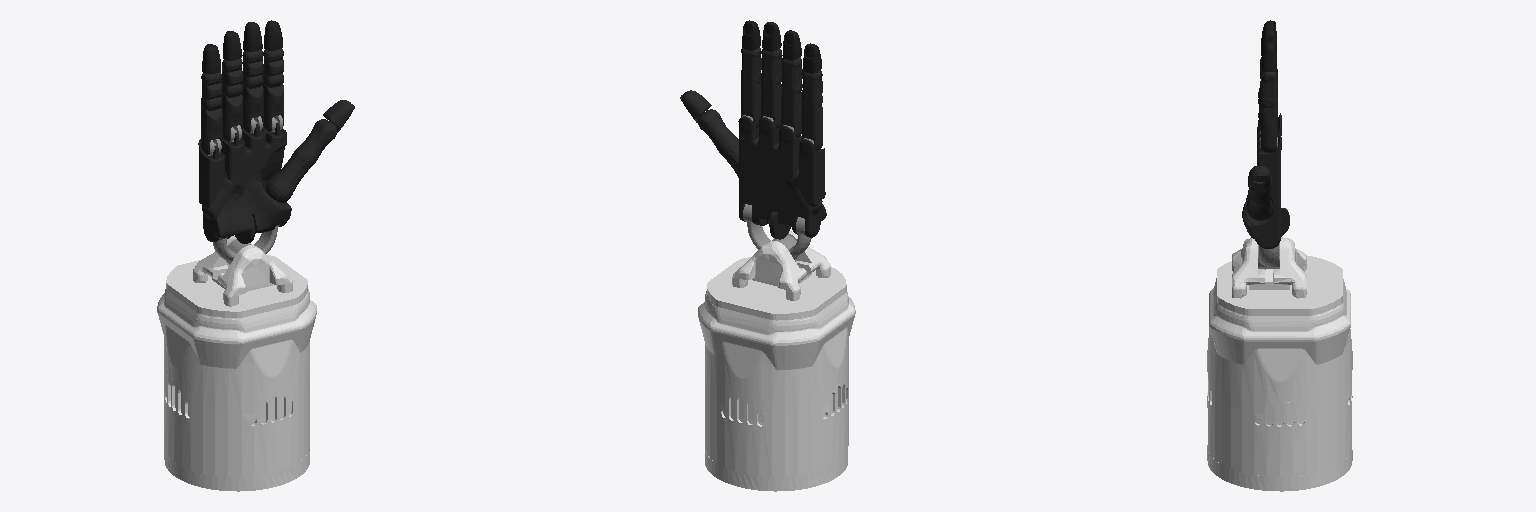
--- What the picture shows (computed from the rendered views, not written in the file) ---
The picture shows the robot from 3 angles, left to right: view 1: azimuth 30°, elevation 25°; view 2: azimuth 150°, elevation 25°; view 3: azimuth 270°, elevation 25°; orthographic projection.
Model shadowhand_motor with 33 links and 32 joints (24 revolute, 8 fixed), rooted at world, posed all joints at 0.
Visible links, largest first — view 1: rh_forearm, rh_palm, rh_lfmetacarpal, rh_thproximal, rh_thmiddle, rh_wrist, rh_lfproximal, rh_mfproximal, rh_rfproximal, rh_rfmiddle, rh_ffproximal, rh_lfmiddle (+3 smaller); view 2: rh_forearm, rh_palm, rh_lfmetacarpal, rh_wrist, rh_thmiddle, rh_lfproximal, rh_rfproximal, rh_mfproximal, rh_ffproximal, rh_rfmiddle, rh_lfmiddle, rh_mfmiddle (+2 smaller); view 3: rh_forearm, rh_palm, rh_ffproximal, rh_ffmiddle.
Boxes of the visible links, x1,y1,x2,y2 form: rh_forearm: (157,236,316,491); rh_palm: (202,123,291,243); rh_lfmetacarpal: (198,139,239,207); rh_thproximal: (266,152,310,202); rh_thmiddle: (294,119,336,166); rh_wrist: (213,225,279,264); rh_lfproximal: (201,105,222,155); rh_mfproximal: (242,82,263,132); rh_rfproximal: (221,93,242,141); rh_rfmiddle: (222,59,242,97); rh_ffproximal: (263,83,283,131); rh_lfmiddle: (201,72,221,110); rh_forearm: (698,231,855,491); rh_palm: (738,116,826,239); rh_lfmetacarpal: (785,139,825,206); rh_wrist: (743,204,811,259); rh_thmiddle: (698,109,738,156); rh_lfproximal: (802,100,822,150); rh_rfproximal: (781,87,801,137); rh_mfproximal: (761,79,781,129); rh_ffproximal: (741,77,760,127); rh_rfmiddle: (781,57,802,93); rh_lfmiddle: (802,70,822,106); rh_mfmiddle: (761,48,781,84); rh_forearm: (1207,237,1352,491); rh_palm: (1242,115,1289,248); rh_ffproximal: (1258,101,1277,152); rh_ffmiddle: (1260,71,1277,107).
Bounding box of the posed robot: 0.1809 × 0.1351 × 0.4479 m (x, y, z).
Meshes: 11 distinct files referenced, 23 mesh visuals loaded (11 Collada DAE).

robot.urdf — shadowhand_motor:
<?xml version="1.0" ?>

<robot name="shadowhand_motor"
   xmlns:controller="http://playerstage.sourceforge.net/gazebo/xmlschema/#controller"
   xmlns:interface="http://playerstage.sourceforge.net/gazebo/xmlschema/#interface"
   xmlns:sensor="http://playerstage.sourceforge.net/gazebo/xmlschema/#sensor">

   <material name="Blue">
      <color rgba="0.0 0.0 0.8 1.0"/>
   </material>

   <material name="Green">
      <color rgba="0.0 0.8 0.0 1.0"/>
   </material>

   <material name="BiotacGreen">
      <color rgba="0.31 0.85 0.42 1.0"/>
   </material>

   <material name="Grey">
      <color rgba="0.2 0.2 0.2 1.0"/>
   </material>

   <material name="LightGrey">
      <color rgba="0.6 0.6 0.6 1.0"/>
   </material>

   <material name="Red">
      <color rgba="0.8 0.0 0.0 1.0"/>
   </material>

   <material name="White">
      <color rgba="1.0 1.0 1.0 1.0"/>
   </material>

   <gazebo>
      <plugin filename="libgazebo_ros_control.so" name="gazebo_ros_control">
         <robotSimType>sr_gazebo_sim/SrGazeboHWSim</robotSimType>
      </plugin>
   </gazebo>

   <link name="world"/>

   <joint name="rh_world_joint" type="fixed">
      <parent link="world"/>
      <child link="rh_forearm"/>
      <origin rpy="0.0 0.0 0.0" xyz="0.0 0.0 0.0"/>
   </joint>

   <link name="rh_forearm">
      <inertial>
         <origin rpy="0 0 0" xyz="0 0 0.09"/>
         <mass value="3.0"/>
         <inertia ixx="0.0138" ixy="0.0" ixz="0.0" iyy="0.0138" iyz="0.0" izz="0.00744"/>
      </inertial>
      <visual>
         <origin rpy="0 0 0" xyz="0 0 0.0"/>
         <geometry name="rh_forearm_visual">
            <mesh filename="package://sr_description/meshes/components/forearm/forearm_E3M5_scaled.dae" />
         </geometry>
         <material name="light_grey">
            <color rgba="0.90000 0.90000 0.90000 1.0"/>
         </material>
      </visual>
      <collision>
         <origin rpy="0 0 0" xyz="0 0 0.0"/>
         <geometry name="rh_forearm_collision">
            <mesh filename="package://sr_description/meshes/components/forearm/forearm_collision_E3M5_scaled.dae" />
         </geometry>
      </collision>      <!-- wrist mount -->
      <collision>
         <origin rpy="0 0.78 0" xyz="0 -0.01 0.181"/>
         <geometry>
            <box size="0.07 0.07 0.07"/>
         </geometry>
      </collision>
      <!-- TODO: Make a decision on whether to add the connector or not -->
      <!--visual>
        <origin rpy="0 -1.57 -1.57" xyz="0.0 0.067 0.0045"/>
        <geometry name="${prefix}cable_extr_visualisation">
          <mesh filename="package://sr_description/meshes/components/cable_connector/cable_connector_base_${hand_version}.dae" scale="0.001 0.001 0.001" />
        </geometry>
      </visual-->
   </link>

   <gazebo reference="rh_forearm">
      <selfCollide>false</selfCollide>
   </gazebo>

   <link name="rh_wrist">
      <inertial>
         <origin rpy="0 0 0" xyz="0 0 0.029"/>
         <mass value="0.1"/>
         <inertia ixx="0.000035" ixy="0.0" ixz="0.0" iyy="0.000064" iyz="0.0" izz="0.0000438"/>
      </inertial>
      <visual>
         <origin rpy="0 0 0" xyz="0 0 0"/>
         <geometry name="rh_wrist_visual">
            <mesh filename="package://sr_description/meshes/components/wrist/wrist_E3M5_no_rot_scaled.dae"/>
         </geometry>
         <material name="LightGrey"/>
      </visual>
      <collision>
         <origin rpy="1.5708 1.5708 0" xyz="0 0 0"/>
         <geometry name="rh_wrist_collision_geom">
            <cylinder length="0.030" radius="0.0135"/>
         </geometry>
      </collision>
      <collision>
         <origin rpy="0 1.5708 0" xyz="-0.026 0 0.034"/>
         <geometry>
            <cylinder length="0.010" radius="0.011"/>
         </geometry>
      </collision>
      <collision>
         <origin rpy="0 1.5708 0" xyz="0.031 0 0.034"/>
         <geometry>
            <cylinder length="0.010" radius="0.011"/>
         </geometry>
      </collision>
      <collision>
         <origin rpy="0 0.7854 0" xyz="-0.021 0 0.011"/>
         <geometry>
            <box size="0.027 0.018 0.010"/>
         </geometry>
      </collision>
      <collision>
         <origin rpy="0 -0.7854 0" xyz="0.026 0 0.010"/>
         <geometry>
            <box size="0.027 0.018 0.010"/>
         </geometry>
      </collision>
   </link>

   <gazebo reference="rh_wrist">
      <material>Gazebo/White</material>
      <selfCollide>false</selfCollide>
   </gazebo>

   <joint name="rh_WRJ2" type="revolute">
      <parent link="rh_forearm"/>
      <child link="rh_wrist"/>
      <origin rpy="0 0 0" xyz="0 -0.010 0.21301"/>
      <axis xyz="0 1 0"/>
      <limit effort="10" lower="-0.5235987755982988" upper="0.17453292519943295" velocity="2.0"/>
      <dynamics damping="0.1"/>
   </joint>

   <gazebo reference="rh_WRJ2">
      <provideFeedback>1</provideFeedback>
      <implicitSpringDamper>1</implicitSpringDamper>
   </gazebo>

   <transmission name="rh_wrist_transmission">
      <type>sr_mechanism_model/SimpleTransmission</type>
      <actuator name="rh_WRJ2">
         <mechanicalReduction>1</mechanicalReduction>
      </actuator>
      <joint name="rh_WRJ2">
         <hardwareInterface>EffortJointInterface</hardwareInterface>
         <hardwareInterface>PositionJointInterface</hardwareInterface>
      </joint>
   </transmission>

   <link name="rh_palm">
      <inertial>
         <origin rpy="0 0 0" xyz="0 0 0.035"/>
         <mass value="0.3"/>
         <inertia ixx="0.0003581" ixy="0.0" ixz="0.0" iyy="0.0005287" iyz="0.0" izz="0.000191"/>
      </inertial>
      <visual>
         <origin rpy="0 0 0" xyz="0 0 0"/>
         <geometry name="rh_palm_visual">
            <mesh filename="package://sr_description/meshes/components/palm/palm_E3M5_scaled.dae" />
         </geometry>
         <material name="Grey"/>
      </visual>
      <collision>
         <origin rpy="0 0 0" xyz="0.011 0.0085 0.038"/>
         <geometry name="rh_palm_collision_geom">
            <box size="0.062 0.007 0.098"/>
         </geometry>
      </collision>
      <collision>
         <origin rpy="0 0 0" xyz="-0.002 -0.0035 0.038"/>
         <geometry>
            <box size="0.036 0.017 0.098"/>
         </geometry>
      </collision>      <!-- palm complement below first finger -->
      <collision>
         <origin rpy="0 0 0" xyz="0.029 -0.0035 0.082"/>
         <geometry>
            <box size="0.026 0.017 0.010"/>
         </geometry>
      </collision>
      <collision>
         <origin rpy="0.2 0 0.25" xyz="0.0265 -0.001 0.070"/>
         <geometry>
            <box size="0.026 0.014 0.018"/>
         </geometry>
      </collision>      <!-- thumb pulp side -->
      <collision>
         <origin rpy="0 0 0" xyz="0.0315 -0.0085 0.001"/>
         <geometry>
            <box size="0.021 0.027 0.024"/>
         </geometry>
      </collision>      <!-- thumb pulp central -->
      <collision>
         <origin rpy="0 0 -0.48" xyz="0.0125 -0.015 0.009"/>
         <geometry>
            <box size="0.022 0.005 0.040"/>
         </geometry>
      </collision>      <!-- above middle finger-->
      <collision>
         <origin rpy="0 0 0" xyz="0.011 0 0.089"/>
         <geometry>
            <box size="0.018 0.024 0.004"/>
         </geometry>
      </collision>      <!-- metacarpal side-->
      <collision>
         <origin rpy="0 0 0" xyz="-0.03 0 0.009"/>
         <geometry>
            <box size="0.020 0.024 0.040"/>
         </geometry>
      </collision>
   </link>

   <joint name="rh_ee_fixed_joint" type="fixed">
      <parent link="rh_palm"/>
      <child link="rh_manipulator"/>
      <origin rpy="0.0 0.0 0.0" xyz="0.0 0.0 0.05"/>
   </joint>

   <link name="rh_manipulator"/>

   <joint name="rh_WRJ1" type="revolute">
      <parent link="rh_wrist"/>
      <child link="rh_palm"/>
      <origin rpy="0 0 0" xyz="0 0 0.034"/>
      <axis xyz="1 0 0"/>
      <limit effort="30" lower="-0.6981317007977318" upper="0.4886921905584123" velocity="2.0"/>
      <dynamics damping="0.1"/>
   </joint>

   <gazebo reference="rh_WRJ1">
      <provideFeedback>1</provideFeedback>
      <implicitSpringDamper>1</implicitSpringDamper>
   </gazebo>

   <link name="rh_imu"/>

   <joint name="rh_palm_to_imu" type="fixed">
      <parent link="rh_palm"/>
      <child link="rh_imu"/>
      <origin rpy="-1.5707963 3.141592 0.0" xyz="0.01785 0.00765 0.049125"/>
   </joint>

   <transmission name="rh_palm_transmission">
      <type>sr_mechanism_model/SimpleTransmission</type>
      <actuator name="rh_WRJ1">
         <mechanicalReduction>1</mechanicalReduction>
      </actuator>
      <joint name="rh_WRJ1">
         <hardwareInterface>EffortJointInterface</hardwareInterface>
         <hardwareInterface>PositionJointInterface</hardwareInterface>
      </joint>
   </transmission>

   <gazebo reference="rh_palm"></gazebo>

   <link name="rh_ffknuckle">
      <inertial>
         <origin rpy="0 0 0" xyz="0 0 0"/>
         <mass value="0.008"/>
         <inertia ixx="0.00000026" ixy="0.0" ixz="0.0" iyy="0.00000026" iyz="0.0" izz="0.00000032"/>
      </inertial>
      <visual>
         <origin rpy="0 0 0" xyz="0 0 0.0005"/>
         <geometry name="rh_ffknuckle_visual">
            <mesh filename="package://sr_description/meshes/components/f_knuckle/f_knuckle_E3M5_no_rot_scaled.dae" />
         </geometry>
         <material name="LightGrey"/>
      </visual>
      <collision>
         <origin rpy="0 1.5708 0" xyz="0 0 0"/>
         <geometry name="rh_ffknuckle_collision_geom">
            <cylinder length="0.014" radius="0.007"/>
         </geometry>
      </collision>
   </link>

   <joint name="rh_FFJ4" type="revolute">
      <parent link="rh_palm"/>
      <child link="rh_ffknuckle"/>
      <!--<origin xyz="0.033 0 0.095" rpy="0 0 0" />-->
      <origin rpy="0 0 0" xyz="0.033 0 0.095"/>
      <axis xyz="0 -1 0"/>
      <limit effort="2" lower="-0.3490658503988659" upper="0.3490658503988659" velocity="2.0"/>
      <dynamics damping="0.1"/>
   </joint>

   <gazebo reference="rh_FFJ4">
      <provideFeedback>1</provideFeedback>
      <implicitSpringDamper>1</implicitSpringDamper>
   </gazebo>

   <transmission name="rh_ffknuckle_transmission">
      <type>sr_mechanism_model/SimpleTransmission</type>
      <actuator name="rh_FFJ4">
         <mechanicalReduction>1</mechanicalReduction>
      </actuator>
      <joint name="rh_FFJ4">
         <hardwareInterface>EffortJointInterface</hardwareInterface>
         <hardwareInterface>PositionJointInterface</hardwareInterface>
      </joint>
   </transmission>

   <gazebo reference="rh_ffknuckle">      <!-- knuckle is not highly exposed, so bumper is not useful -->
      <material>Gazebo/Grey</material>
   </gazebo>

   <link name="rh_ffproximal">
      <inertial>
         <mass value="0.030"/>
         <origin xyz="0 0 0.0225"/>
         <inertia ixx="0.0000098" ixy="0.0" ixz="0.0" iyy="0.00001" iyz="0.0" izz="0.0000018"/>
      </inertial>
      <visual>
         <origin rpy="0 0 0" xyz="0 0 0"/>
         <geometry name="rh_ffproximal_visual">
            <mesh filename="package://sr_description/meshes/components/f_proximal/f_proximal_E3M5_no_rot_scaled.dae" />
         </geometry>
         <material name="Grey"/>
      </visual>
      <collision>
         <origin rpy="0 0 0" xyz="0 0 0.025"/>
         <geometry name="rh_ffproximal_collision_geom">
            <cylinder length="0.040" radius="0.007"/>
         </geometry>
      </collision>
   </link>

   <joint name="rh_FFJ3" type="revolute">
      <parent link="rh_ffknuckle"/>
      <child link="rh_ffproximal"/>
      <origin rpy="0 0 0" xyz="0 0 0"/>
      <axis xyz="1 0 0"/>
      <limit effort="2" lower="-0.2617993877991494" upper="1.5707963267948966" velocity="2.0"/>
      <dynamics damping="0.1"/>
   </joint>

   <gazebo reference="rh_FFJ3">
      <provideFeedback>1</provideFeedback>
      <implicitSpringDamper>1</implicitSpringDamper>
   </gazebo>

   <transmission name="rh_ffproximal_transmission">
      <type>sr_mechanism_model/SimpleTransmission</type>
      <actuator name="rh_FFJ3">
         <mechanicalReduction>1</mechanicalReduction>
      </actuator>
      <joint name="rh_FFJ3">
         <hardwareInterface>EffortJointInterface</hardwareInterface>
         <hardwareInterface>PositionJointInterface</hardwareInterface>
      </joint>
   </transmission>

   <gazebo reference="rh_ffproximal">
      <selfCollide>true</selfCollide>
   </gazebo>

   <link name="rh_ffmiddle">
      <inertial>
         <origin rpy="0 0 0" xyz="0 0 0.0125"/>
         <mass value="0.017"/>
         <inertia ixx="0.0000026" ixy="0.0" ixz="0.0" iyy="0.0000027" iyz="0.0" izz="0.00000087"/>
      </inertial>
      <visual>
         <origin rpy="0 0 0" xyz="0 0 0"/>
         <geometry name="rh_ffmiddle_visual">
            <mesh filename="package://sr_description/meshes/components/f_middle/f_middle_E3M5_no_rot_scaled.dae" />
         </geometry>
         <material name="Grey"/>
      </visual>
      <collision>
         <origin rpy="0 0 0" xyz="0 0 0.0125"/>
         <geometry name="rh_ffmiddle_collision_geom">
            <cylinder length="0.025" radius="0.007"/>
         </geometry>
      </collision>
      <collision>
         <origin rpy="0 0 0" xyz="0 0 0.0"/>
         <geometry>
            <sphere radius="0.007"/>
         </geometry>
      </collision>
      <collision>
         <origin rpy="0 0 0" xyz="0 0 0.025"/>
         <geometry>
            <sphere radius="0.007"/>
         </geometry>
      </collision>
   </link>

   <joint name="rh_FFJ2" type="revolute">
      <parent link="rh_ffproximal"/>
      <child link="rh_ffmiddle"/>
      <origin rpy="0 0 0" xyz="0 0 0.045"/>
      <axis xyz="1 0 0"/>
      <limit effort="2" lower="0" upper="1.5707963267948966" velocity="2.0"/>
      <dynamics damping="0.1"/>
   </joint>

   <gazebo reference="rh_FFJ2">
      <provideFeedback>1</provideFeedback>
      <implicitSpringDamper>1</implicitSpringDamper>
   </gazebo>

   <transmission name="rh_ffmiddle_transmission">
      <type>sr_mechanism_model/J0Transmission</type>
      <actuator name="rh_FFJ0">
         <mechanicalReduction>1</mechanicalReduction>
      </actuator>
      <joint name="rh_FFJ1">
         <hardwareInterface>EffortJointInterface</hardwareInterface>
         <hardwareInterface>PositionJointInterface</hardwareInterface>
      </joint>
   </transmission>

   <gazebo reference="rh_ffmiddle">
      <selfCollide>true</selfCollide>
   </gazebo>

   <link name="rh_ffdistal">
      <inertial>
         <mass value="0.012"/>
         <origin xyz="0 0 0.012"/>
         <inertia ixx="0.00000094" ixy="0.0" ixz="0.0" iyy="0.0000011" iyz="0.0" izz="0.00000053"/>
      </inertial>
      <visual>
         <origin rpy="0 0 0" xyz="0 0 0"/>
         <geometry name="rh_ffdistal_visual">
            <mesh filename="package://sr_description/meshes/components/f_distal/pst/f_distal_pst_scaled.dae" />
         </geometry>
      </visual>
      <collision>
         <origin rpy="0 0 0" xyz="0 0 0"/>
         <geometry name="rh_ffdistal_collision_geom">
            <mesh filename="package://sr_description/meshes/components/f_distal/pst/f_distal_pst_scaled.dae" />
         </geometry>
      </collision>
   </link>

   <joint name="rh_FFJ1" type="revolute">
      <parent link="rh_ffmiddle"/>
      <child link="rh_ffdistal"/>
      <origin rpy="0 0 0" xyz="0 0 0.025"/>
      <axis xyz="1 0 0"/>
      <!-- standard distal joint -->
      <limit effort="2" lower="0" upper="1.5707963267948966" velocity="2.0"/>
      <dynamics damping="0.1"/>
   </joint>

   <gazebo reference="rh_FFJ1">
      <provideFeedback>1</provideFeedback>
      <implicitSpringDamper>1</implicitSpringDamper>
   </gazebo>

   <link name="rh_fftip">
      <inertial>
         <origin xyz="0 0 0" rpy="0 0 0"/>
         <!--Explicitly setting the origin to avoid compilation errors-->
         <mass value="0.001"/>
         <inertia ixx="0.0" ixy="0.0" ixz="0.0" iyy="0.0" iyz="0.0" izz="0.0"/>
      </inertial>
   </link>

   <joint name="rh_FFtip" type="fixed">
      <parent link="rh_ffdistal"/>
      <child link="rh_fftip"/>
      <origin rpy="0 0 0" xyz="0 0 0.026"/>
   </joint>

   <gazebo reference="rh_ffdistal">
      <sensor name="rh_ffdistal_contact" type="contact">
         <always_on>1</always_on>
         <update_rate>1000.0</update_rate>
         <contact>
            <collision>rh_ffdistal_collision</collision>
            <topic>rh_ffdistal_collision</topic>
         </contact>
         <plugin filename="libgazebo_ros_bumper.so" name="rh_ffdistal_gazebo_ros_bumper_controller">
            <alwaysOn>true</alwaysOn>
            <frameName>rh_ffdistal</frameName>
            <updateRate>100.0</updateRate>
            <bumperTopicName>contacts/rh_ff/distal</bumperTopicName>
         </plugin>
      </sensor>
      <mu1 value="500.0"/>
      <mu2 value="500.0"/>
      <kp value="10000000.0"/>
      <kd value="1.0"/>
      <selfCollide>true</selfCollide>
   </gazebo>

   <link name="rh_mfknuckle">
      <inertial>
         <origin rpy="0 0 0" xyz="0 0 0"/>
         <mass value="0.008"/>
         <inertia ixx="0.00000026" ixy="0.0" ixz="0.0" iyy="0.00000026" iyz="0.0" izz="0.00000032"/>
      </inertial>
      <visual>
         <origin rpy="0 0 0" xyz="0 0 0.0005"/>
         <geometry name="rh_mfknuckle_visual">
            <mesh filename="package://sr_description/meshes/components/f_knuckle/f_knuckle_E3M5_no_rot_scaled.dae" />
         </geometry>
         <material name="LightGrey"/>
      </visual>
      <collision>
         <origin rpy="0 1.5708 0" xyz="0 0 0"/>
         <geometry name="rh_mfknuckle_collision_geom">
            <cylinder length="0.014" radius="0.007"/>
         </geometry>
      </collision>
   </link>

   <joint name="rh_MFJ4" type="revolute">
      <parent link="rh_palm"/>
      <child link="rh_mfknuckle"/>
      <!--<origin xyz="0.033 0 0.095" rpy="0 0 0" />-->
      <origin rpy="0 0 0" xyz="0.011 0 0.099"/>
      <axis xyz="0 -1 0"/>
      <limit effort="2" lower="-0.3490658503988659" upper="0.3490658503988659" velocity="2.0"/>
      <dynamics damping="0.1"/>
   </joint>

   <gazebo reference="rh_MFJ4">
      <provideFeedback>1</provideFeedback>
      <implicitSpringDamper>1</implicitSpringDamper>
   </gazebo>

   <transmission name="rh_mfknuckle_transmission">
      <type>sr_mechanism_model/SimpleTransmission</type>
      <actuator name="rh_MFJ4">
         <mechanicalReduction>1</mechanicalReduction>
      </actuator>
      <joint name="rh_MFJ4">
         <hardwareInterface>EffortJointInterface</hardwareInterface>
         <hardwareInterface>PositionJointInterface</hardwareInterface>
      </joint>
   </transmission>

   <gazebo reference="rh_mfknuckle">      <!-- knuckle is not highly exposed, so bumper is not useful -->
      <material>Gazebo/Grey</material>
   </gazebo>

   <link name="rh_mfproximal">
      <inertial>
         <mass value="0.030"/>
         <origin xyz="0 0 0.0225"/>
         <inertia ixx="0.0000098" ixy="0.0" ixz="0.0" iyy="0.00001" iyz="0.0" izz="0.0000018"/>
      </inertial>
      <visual>
         <origin rpy="0 0 0" xyz="0 0 0"/>
         <geometry name="rh_mfproximal_visual">
            <mesh filename="package://sr_description/meshes/components/f_proximal/f_proximal_E3M5_no_rot_scaled.dae" />
         </geometry>
         <material name="Grey"/>
      </visual>
      <collision>
         <origin rpy="0 0 0" xyz="0 0 0.025"/>
         <geometry name="rh_mfproximal_collision_geom">
            <cylinder length="0.040" radius="0.007"/>
         </geometry>
      </collision>
   </link>

   <joint name="rh_MFJ3" type="revolute">
      <parent link="rh_mfknuckle"/>
      <child link="rh_mfproximal"/>
      <origin rpy="0 0 0" xyz="0 0 0"/>
      <axis xyz="1 0 0"/>
      <limit effort="2" lower="-0.2617993877991494" upper="1.5707963267948966" velocity="2.0"/>
      <dynamics damping="0.1"/>
   </joint>

   <gazebo reference="rh_MFJ3">
      <provideFeedback>1</provideFeedback>
      <implicitSpringDamper>1</implicitSpringDamper>
   </gazebo>

   <transmission name="rh_mfproximal_transmission">
      <type>sr_mechanism_model/SimpleTransmission</type>
      <actuator name="rh_MFJ3">
         <mechanicalReduction>1</mechanicalReduction>
      </actuator>
      <joint name="rh_MFJ3">
         <hardwareInterface>EffortJointInterface</hardwareInterface>
         <hardwareInterface>PositionJointInterface</hardwareInterface>
      </joint>
   </transmission>

   <gazebo reference="rh_mfproximal">
      <selfCollide>true</selfCollide>
   </gazebo>

   <link name="rh_mfmiddle">
      <inertial>
         <origin rpy="0 0 0" xyz="0 0 0.0125"/>
         <mass value="0.017"/>
         <inertia ixx="0.0000026" ixy="0.0" ixz="0.0" iyy="0.0000027" iyz="0.0" izz="0.00000087"/>
      </inertial>
      <visual>
         <origin rpy="0 0 0" xyz="0 0 0"/>
         <geometry name="rh_mfmiddle_visual">
            <mesh filename="package://sr_description/meshes/components/f_middle/f_middle_E3M5_no_rot_scaled.dae" />
         </geometry>
         <material name="Grey"/>
      </visual>
      <collision>
         <origin rpy="0 0 0" xyz="0 0 0.0125"/>
         <geometry name="rh_mfmiddle_collision_geom">
            <cylinder length="0.025" radius="0.007"/>
         </geometry>
      </collision>
      <collision>
         <origin rpy="0 0 0" xyz="0 0 0.0"/>
         <geometry>
            <sphere radius="0.007"/>
         </geometry>
      </collision>
      <collision>
         <origin rpy="0 0 0" xyz="0 0 0.025"/>
         <geometry>
            <sphere radius="0.007"/>
         </geometry>
      </collision>
   </link>

   <joint name="rh_MFJ2" type="revolute">
      <parent link="rh_mfproximal"/>
      <child link="rh_mfmiddle"/>
      <origin rpy="0 0 0" xyz="0 0 0.045"/>
      <axis xyz="1 0 0"/>
      <limit effort="2" lower="0" upper="1.5707963267948966" velocity="2.0"/>
      <dynamics damping="0.1"/>
   </joint>

   <gazebo reference="rh_MFJ2">
      <provideFeedback>1</provideFeedback>
      <implicitSpringDamper>1</implicitSpringDamper>
   </gazebo>

   <transmission name="rh_mfmiddle_transmission">
      <type>sr_mechanism_model/J0Transmission</type>
      <actuator name="rh_MFJ0">
         <mechanicalReduction>1</mechanicalReduction>
      </actuator>
      <joint name="rh_MFJ1">
         <hardwareInterface>EffortJointInterface</hardwareInterface>
         <hardwareInterface>PositionJointInterface</hardwareInterface>
      </joint>
   </transmission>

   <gazebo reference="rh_mfmiddle">
      <selfCollide>true</selfCollide>
   </gazebo>

   <link name="rh_mfdistal">
      <inertial>
         <mass value="0.012"/>
         <origin xyz="0 0 0.012"/>
         <inertia ixx="0.00000094" ixy="0.0" ixz="0.0" iyy="0.0000011" iyz="0.0" izz="0.00000053"/>
      </inertial>
      <visual>
         <origin rpy="0 0 0" xyz="0 0 0"/>
         <geometry name="rh_mfdistal_visual">
            <mesh filename="package://sr_description/meshes/components/f_distal/pst/f_distal_pst_scaled.dae" />
         </geometry>
      </visual>
      <collision>
         <origin rpy="0 0 0" xyz="0 0 0"/>
         <geometry name="rh_mfdistal_collision_geom">
            <mesh filename="package://sr_description/meshes/components/f_distal/pst/f_distal_pst_scaled.dae" />
         </geometry>
      </collision>
   </link>

   <joint name="rh_MFJ1" type="revolute">
      <parent link="rh_mfmiddle"/>
      <child link="rh_mfdistal"/>
      <origin rpy="0 0 0" xyz="0 0 0.025"/>
      <axis xyz="1 0 0"/>
      <!-- standard distal joint -->
      <limit effort="2" lower="0" upper="1.5707963267948966" velocity="2.0"/>
      <dynamics damping="0.1"/>
   </joint>

   <gazebo reference="rh_MFJ1">
      <provideFeedback>1</provideFeedback>
      <implicitSpringDamper>1</implicitSpringDamper>
   </gazebo>

   <link name="rh_mftip">
      <inertial>
         <origin xyz="0 0 0" rpy="0 0 0"/>
         <!--Explicitly setting the origin to avoid compilation errors-->
         <mass value="0.001"/>
         <inertia ixx="0.0" ixy="0.0" ixz="0.0" iyy="0.0" iyz="0.0" izz="0.0"/>
      </inertial>
   </link>

   <joint name="rh_MFtip" type="fixed">
      <parent link="rh_mfdistal"/>
      <child link="rh_mftip"/>
      <origin rpy="0 0 0" xyz="0 0 0.026"/>
   </joint>

   <gazebo reference="rh_mfdistal">
      <sensor name="rh_mfdistal_contact" type="contact">
         <always_on>1</always_on>
         <update_rate>1000.0</update_rate>
         <contact>
            <collision>rh_mfdistal_collision</collision>
            <topic>rh_mfdistal_collision</topic>
         </contact>
         <plugin filename="libgazebo_ros_bumper.so" name="rh_mfdistal_gazebo_ros_bumper_controller">
            <alwaysOn>true</alwaysOn>
            <frameName>rh_mfdistal</frameName>
            <updateRate>100.0</updateRate>
            <bumperTopicName>contacts/rh_mf/distal</bumperTopicName>
         </plugin>
      </sensor>
      <mu1 value="500.0"/>
      <mu2 value="500.0"/>
      <kp value="10000000.0"/>
      <kd value="1.0"/>
      <selfCollide>true</selfCollide>
   </gazebo>

   <link name="rh_rfknuckle">
      <inertial>
         <origin rpy="0 0 0" xyz="0 0 0"/>
         <mass value="0.008"/>
         <inertia ixx="0.00000026" ixy="0.0" ixz="0.0" iyy="0.00000026" iyz="0.0" izz="0.00000032"/>
      </inertial>
      <visual>
         <origin rpy="0 0 0" xyz="0 0 0.0005"/>
         <geometry name="rh_rfknuckle_visual">
            <mesh filename="package://sr_description/meshes/components/f_knuckle/f_knuckle_E3M5_no_rot_scaled.dae" />
         </geometry>
         <material name="LightGrey"/>
      </visual>
      <collision>
         <origin rpy="0 1.5708 0" xyz="0 0 0"/>
         <geometry name="rh_rfknuckle_collision_geom">
            <cylinder length="0.014" radius="0.007"/>
         </geometry>
      </collision>
   </link>

   <joint name="rh_RFJ4" type="revolute">
      <parent link="rh_palm"/>
      <child link="rh_rfknuckle"/>
      <!--<origin xyz="0.033 0 0.095" rpy="0 0 0" />-->
      <origin rpy="0 0 0" xyz="-0.011 0 0.095"/>
      <axis xyz="0 1 0"/>
      <limit effort="2" lower="-0.3490658503988659" upper="0.3490658503988659" velocity="2.0"/>
      <dynamics damping="0.1"/>
   </joint>

   <gazebo reference="rh_RFJ4">
      <provideFeedback>1</provideFeedback>
      <implicitSpringDamper>1</implicitSpringDamper>
   </gazebo>

   <transmission name="rh_rfknuckle_transmission">
      <type>sr_mechanism_model/SimpleTransmission</type>
      <actuator name="rh_RFJ4">
         <mechanicalReduction>1</mechanicalReduction>
      </actuator>
      <joint name="rh_RFJ4">
         <hardwareInterface>EffortJointInterface</hardwareInterface>
         <hardwareInterface>PositionJointInterface</hardwareInterface>
      </joint>
   </transmission>

   <gazebo reference="rh_rfknuckle">      <!-- knuckle is not highly exposed, so bumper is not useful -->
      <material>Gazebo/Grey</material>
   </gazebo>

   <link name="rh_rfproximal">
      <inertial>
         <mass value="0.030"/>
         <origin xyz="0 0 0.0225"/>
         <inertia ixx="0.0000098" ixy="0.0" ixz="0.0" iyy="0.00001" iyz="0.0" izz="0.0000018"/>
      </inertial>
      <visual>
         <origin rpy="0 0 0" xyz="0 0 0"/>
         <geometry name="rh_rfproximal_visual">
            <mesh filename="package://sr_description/meshes/components/f_proximal/f_proximal_E3M5_no_rot_scaled.dae" />
         </geometry>
         <material name="Grey"/>
      </visual>
      <collision>
         <origin rpy="0 0 0" xyz="0 0 0.025"/>
         <geometry name="rh_rfproximal_collision_geom">
            <cylinder length="0.040" radius="0.007"/>
         </geometry>
      </collision>
   </link>

   <joint name="rh_RFJ3" type="revolute">
      <parent link="rh_rfknuckle"/>
      <child link="rh_rfproximal"/>
      <origin rpy="0 0 0" xyz="0 0 0"/>
      <axis xyz="1 0 0"/>
      <limit effort="2" lower="-0.2617993877991494" upper="1.5707963267948966" velocity="2.0"/>
      <dynamics damping="0.1"/>
   </joint>

   <gazebo reference="rh_RFJ3">
      <provideFeedback>1</provideFeedback>
      <implicitSpringDamper>1</implicitSpringDamper>
   </gazebo>

   <transmission name="rh_rfproximal_transmission">
      <type>sr_mechanism_model/SimpleTransmission</type>
      <actuator name="rh_RFJ3">
         <mechanicalReduction>1</mechanicalReduction>
      </actuator>
      <joint name="rh_RFJ3">
         <hardwareInterface>EffortJointInterface</hardwareInterface>
         <hardwareInterface>PositionJointInterface</hardwareInterface>
      </joint>
   </transmission>

   <gazebo reference="rh_rfproximal">
      <selfCollide>true</selfCollide>
   </gazebo>

   <link name="rh_rfmiddle">
      <inertial>
         <origin rpy="0 0 0" xyz="0 0 0.0125"/>
         <mass value="0.017"/>
         <inertia ixx="0.0000026" ixy="0.0" ixz="0.0" iyy="0.0000027" iyz="0.0" izz="0.00000087"/>
      </inertial>
      <visual>
         <origin rpy="0 0 0" xyz="0 0 0"/>
         <geometry name="rh_rfmiddle_visual">
            <mesh filename="package://sr_description/meshes/components/f_middle/f_middle_E3M5_no_rot_scaled.dae" />
         </geometry>
         <material name="Grey"/>
      </visual>
      <collision>
         <origin rpy="0 0 0" xyz="0 0 0.0125"/>
         <geometry name="rh_rfmiddle_collision_geom">
            <cylinder length="0.025" radius="0.007"/>
         </geometry>
      </collision>
      <collision>
         <origin rpy="0 0 0" xyz="0 0 0.0"/>
         <geometry>
            <sphere radius="0.007"/>
         </geometry>
      </collision>
      <collision>
         <origin rpy="0 0 0" xyz="0 0 0.025"/>
         <geometry>
            <sphere radius="0.007"/>
         </geometry>
      </collision>
   </link>

   <joint name="rh_RFJ2" type="revolute">
      <parent link="rh_rfproximal"/>
      <child link="rh_rfmiddle"/>
      <origin rpy="0 0 0" xyz="0 0 0.045"/>
      <axis xyz="1 0 0"/>
      <limit effort="2" lower="0" upper="1.5707963267948966" velocity="2.0"/>
      <dynamics damping="0.1"/>
   </joint>

   <gazebo reference="rh_RFJ2">
      <provideFeedback>1</provideFeedback>
      <implicitSpringDamper>1</implicitSpringDamper>
   </gazebo>

   <transmission name="rh_rfmiddle_transmission">
      <type>sr_mechanism_model/J0Transmission</type>
      <actuator name="rh_RFJ0">
         <mechanicalReduction>1</mechanicalReduction>
      </actuator>
      <joint name="rh_RFJ1">
         <hardwareInterface>EffortJointInterface</hardwareInterface>
         <hardwareInterface>PositionJointInterface</hardwareInterface>
      </joint>
   </transmission>

   <gazebo reference="rh_rfmiddle">
      <selfCollide>true</selfCollide>
   </gazebo>

   <link name="rh_rfdistal">
      <inertial>
         <mass value="0.012"/>
         <origin xyz="0 0 0.012"/>
         <inertia ixx="0.00000094" ixy="0.0" ixz="0.0" iyy="0.0000011" iyz="0.0" izz="0.00000053"/>
      </inertial>
      <visual>
         <origin rpy="0 0 0" xyz="0 0 0"/>
         <geometry name="rh_rfdistal_visual">
            <mesh filename="package://sr_description/meshes/components/f_distal/pst/f_distal_pst_scaled.dae" />
         </geometry>
      </visual>
      <collision>
         <origin rpy="0 0 0" xyz="0 0 0"/>
         <geometry name="rh_rfdistal_collision_geom">
            <mesh filename="package://sr_description/meshes/components/f_distal/pst/f_distal_pst_scaled.dae" />
         </geometry>
      </collision>
   </link>

   <joint name="rh_RFJ1" type="revolute">
      <parent link="rh_rfmiddle"/>
      <child link="rh_rfdistal"/>
      <origin rpy="0 0 0" xyz="0 0 0.025"/>
      <axis xyz="1 0 0"/>
      <!-- standard distal joint -->
      <limit effort="2" lower="0" upper="1.5707963267948966" velocity="2.0"/>
      <dynamics damping="0.1"/>
   </joint>

   <gazebo reference="rh_RFJ1">
      <provideFeedback>1</provideFeedback>
      <implicitSpringDamper>1</implicitSpringDamper>
   </gazebo>

   <link name="rh_rftip">
      <inertial>
         <origin xyz="0 0 0" rpy="0 0 0"/>
         <!--Explicitly setting the origin to avoid compilation errors-->
         <mass value="0.001"/>
         <inertia ixx="0.0" ixy="0.0" ixz="0.0" iyy="0.0" iyz="0.0" izz="0.0"/>
      </inertial>
   </link>

   <joint name="rh_RFtip" type="fixed">
      <parent link="rh_rfdistal"/>
      <child link="rh_rftip"/>
      <origin rpy="0 0 0" xyz="0 0 0.026"/>
   </joint>

   <gazebo reference="rh_rfdistal">
      <sensor name="rh_rfdistal_contact" type="contact">
         <always_on>1</always_on>
         <update_rate>1000.0</update_rate>
         <contact>
            <collision>rh_rfdistal_collision</collision>
            <topic>rh_rfdistal_collision</topic>
         </contact>
         <plugin filename="libgazebo_ros_bumper.so" name="rh_rfdistal_gazebo_ros_bumper_controller">
            <alwaysOn>true</alwaysOn>
            <frameName>rh_rfdistal</frameName>
            <updateRate>100.0</updateRate>
            <bumperTopicName>contacts/rh_rf/distal</bumperTopicName>
         </plugin>
      </sensor>
      <mu1 value="500.0"/>
      <mu2 value="500.0"/>
      <kp value="10000000.0"/>
      <kd value="1.0"/>
      <selfCollide>true</selfCollide>
   </gazebo>

   <link name="rh_lfmetacarpal">
      <inertial>
         <origin rpy="0 0.9599 0" xyz="0.03174867647058824 0 0.02235294117647059"/>
         <mass value="0.030"/>
         <inertia ixx="0.0000145" ixy="0.0" ixz="0.0" iyy="0.00001638" iyz="0.0" izz="0.000004272"/>
      </inertial>
      <visual>
         <origin rpy="0 0.9599 0" xyz="0 0 0"/>
         <geometry name="rh_lfmetacarpal_visual">
            <mesh filename="package://sr_description/meshes/components/lf_metacarpal/lf_metacarpal_E3M5_no_rot_scaled.dae" />
         </geometry>
         <material name="Grey"/>
      </visual>
      <collision>
         <origin rpy="0 0.9599 0" xyz="0.026986375 0 0.019"/>
         <geometry name="rh_lfmetacarpal_collision_geom">
            <box size="0.018 0.024 0.040"/>
         </geometry>
      </collision>
   </link>

   <joint name="rh_LFJ5" type="revolute">
      <parent link="rh_palm"/>
      <child link="rh_lfmetacarpal"/>
      <origin rpy="0 -0.9599 0" xyz="-0.033 0 0.02071"/>
      <axis xyz="1 0 0"/>
      <limit effort="2" lower="0" upper="0.7853981633974483" velocity="2.0"/>
      <dynamics damping="0.1"/>
   </joint>

   <gazebo reference="rh_LFJ5">
      <provideFeedback>1</provideFeedback>
      <implicitSpringDamper>1</implicitSpringDamper>
   </gazebo>

   <transmission name="rh_lfmetacarpal_transmission">
      <type>sr_mechanism_model/SimpleTransmission</type>
      <actuator name="rh_LFJ5">
         <mechanicalReduction>1</mechanicalReduction>
      </actuator>
      <joint name="rh_LFJ5">
         <hardwareInterface>EffortJointInterface</hardwareInterface>
         <hardwareInterface>PositionJointInterface</hardwareInterface>
      </joint>
   </transmission>

   <gazebo reference="rh_lfmetacarpal">
      <selfCollide>true</selfCollide>
   </gazebo>

   <link name="rh_lfknuckle">
      <inertial>
         <origin rpy="0 0 0" xyz="0 0 0"/>
         <mass value="0.008"/>
         <inertia ixx="0.00000026" ixy="0.0" ixz="0.0" iyy="0.00000026" iyz="0.0" izz="0.00000032"/>
      </inertial>
      <visual>
         <origin rpy="0 0 0" xyz="0 0 0.0005"/>
         <geometry name="rh_lfknuckle_visual">
            <mesh filename="package://sr_description/meshes/components/f_knuckle/f_knuckle_E3M5_no_rot_scaled.dae" />
         </geometry>
         <material name="LightGrey"/>
      </visual>
      <collision>
         <origin rpy="0 1.5708 0" xyz="0 0 0"/>
         <geometry name="rh_lfknuckle_collision_geom">
            <cylinder length="0.014" radius="0.007"/>
         </geometry>
      </collision>
   </link>

   <joint name="rh_LFJ4" type="revolute">
      <parent link="rh_lfmetacarpal"/>
      <child link="rh_lfknuckle"/>
      <!--<origin xyz="0.033 0 0.095" rpy="0 0 0" />-->
      <origin rpy="0 0.9599 0" xyz="0.05397275 0 0.03779463"/>
      <axis xyz="0 1 0"/>
      <limit effort="2" lower="-0.3490658503988659" upper="0.3490658503988659" velocity="2.0"/>
      <dynamics damping="0.1"/>
   </joint>

   <gazebo reference="rh_LFJ4">
      <provideFeedback>1</provideFeedback>
      <implicitSpringDamper>1</implicitSpringDamper>
   </gazebo>

   <transmission name="rh_lfknuckle_transmission">
      <type>sr_mechanism_model/SimpleTransmission</type>
      <actuator name="rh_LFJ4">
         <mechanicalReduction>1</mechanicalReduction>
      </actuator>
      <joint name="rh_LFJ4">
         <hardwareInterface>EffortJointInterface</hardwareInterface>
         <hardwareInterface>PositionJointInterface</hardwareInterface>
      </joint>
   </transmission>

   <gazebo reference="rh_lfknuckle">      <!-- knuckle is not highly exposed, so bumper is not useful -->
      <material>Gazebo/Grey</material>
   </gazebo>

   <link name="rh_lfproximal">
      <inertial>
         <mass value="0.030"/>
         <origin xyz="0 0 0.0225"/>
         <inertia ixx="0.0000098" ixy="0.0" ixz="0.0" iyy="0.00001" iyz="0.0" izz="0.0000018"/>
      </inertial>
      <visual>
         <origin rpy="0 0 0" xyz="0 0 0"/>
         <geometry name="rh_lfproximal_visual">
            <mesh filename="package://sr_description/meshes/components/f_proximal/f_proximal_E3M5_no_rot_scaled.dae" />
         </geometry>
         <material name="Grey"/>
      </visual>
      <collision>
         <origin rpy="0 0 0" xyz="0 0 0.025"/>
         <geometry name="rh_lfproximal_collision_geom">
            <cylinder length="0.040" radius="0.007"/>
         </geometry>
      </collision>
   </link>

   <joint name="rh_LFJ3" type="revolute">
      <parent link="rh_lfknuckle"/>
      <child link="rh_lfproximal"/>
      <origin rpy="0 0 0" xyz="0 0 0"/>
      <axis xyz="1 0 0"/>
      <limit effort="2" lower="-0.2617993877991494" upper="1.5707963267948966" velocity="2.0"/>
      <dynamics damping="0.1"/>
   </joint>

   <gazebo reference="rh_LFJ3">
      <provideFeedback>1</provideFeedback>
      <implicitSpringDamper>1</implicitSpringDamper>
   </gazebo>

   <transmission name="rh_lfproximal_transmission">
      <type>sr_mechanism_model/SimpleTransmission</type>
      <actuator name="rh_LFJ3">
         <mechanicalReduction>1</mechanicalReduction>
      </actuator>
      <joint name="rh_LFJ3">
         <hardwareInterface>EffortJointInterface</hardwareInterface>
         <hardwareInterface>PositionJointInterface</hardwareInterface>
      </joint>
   </transmission>

   <gazebo reference="rh_lfproximal">
      <selfCollide>true</selfCollide>
   </gazebo>

   <link name="rh_lfmiddle">
      <inertial>
         <origin rpy="0 0 0" xyz="0 0 0.0125"/>
         <mass value="0.017"/>
         <inertia ixx="0.0000026" ixy="0.0" ixz="0.0" iyy="0.0000027" iyz="0.0" izz="0.00000087"/>
      </inertial>
      <visual>
         <origin rpy="0 0 0" xyz="0 0 0"/>
         <geometry name="rh_lfmiddle_visual">
            <mesh filename="package://sr_description/meshes/components/f_middle/f_middle_E3M5_no_rot_scaled.dae" />
         </geometry>
         <material name="Grey"/>
      </visual>
      <collision>
         <origin rpy="0 0 0" xyz="0 0 0.0125"/>
         <geometry name="rh_lfmiddle_collision_geom">
            <cylinder length="0.025" radius="0.007"/>
         </geometry>
      </collision>
      <collision>
         <origin rpy="0 0 0" xyz="0 0 0.0"/>
         <geometry>
            <sphere radius="0.007"/>
         </geometry>
      </collision>
      <collision>
         <origin rpy="0 0 0" xyz="0 0 0.025"/>
         <geometry>
            <sphere radius="0.007"/>
         </geometry>
      </collision>
   </link>

   <joint name="rh_LFJ2" type="revolute">
      <parent link="rh_lfproximal"/>
      <child link="rh_lfmiddle"/>
      <origin rpy="0 0 0" xyz="0 0 0.045"/>
      <axis xyz="1 0 0"/>
      <limit effort="2" lower="0" upper="1.5707963267948966" velocity="2.0"/>
      <dynamics damping="0.1"/>
   </joint>

   <gazebo reference="rh_LFJ2">
      <provideFeedback>1</provideFeedback>
      <implicitSpringDamper>1</implicitSpringDamper>
   </gazebo>

   <transmission name="rh_lfmiddle_transmission">
      <type>sr_mechanism_model/J0Transmission</type>
      <actuator name="rh_LFJ0">
         <mechanicalReduction>1</mechanicalReduction>
      </actuator>
      <joint name="rh_LFJ1">
         <hardwareInterface>EffortJointInterface</hardwareInterface>
         <hardwareInterface>PositionJointInterface</hardwareInterface>
      </joint>
   </transmission>

   <gazebo reference="rh_lfmiddle">
      <selfCollide>true</selfCollide>
   </gazebo>

   <link name="rh_lfdistal">
      <inertial>
         <mass value="0.012"/>
         <origin xyz="0 0 0.012"/>
         <inertia ixx="0.00000094" ixy="0.0" ixz="0.0" iyy="0.0000011" iyz="0.0" izz="0.00000053"/>
      </inertial>
      <visual>
         <origin rpy="0 0 0" xyz="0 0 0"/>
         <geometry name="rh_lfdistal_visual">
            <mesh filename="package://sr_description/meshes/components/f_distal/pst/f_distal_pst_scaled.dae" />
         </geometry>
      </visual>
      <collision>
         <origin rpy="0 0 0" xyz="0 0 0"/>
         <geometry name="rh_lfdistal_collision_geom">
            <mesh filename="package://sr_description/meshes/components/f_distal/pst/f_distal_pst_scaled.dae" />
         </geometry>
      </collision>
   </link>

   <joint name="rh_LFJ1" type="revolute">
      <parent link="rh_lfmiddle"/>
      <child link="rh_lfdistal"/>
      <origin rpy="0 0 0" xyz="0 0 0.025"/>
      <axis xyz="1 0 0"/>
      <!-- standard distal joint -->
      <limit effort="2" lower="0" upper="1.5707963267948966" velocity="2.0"/>
      <dynamics damping="0.1"/>
   </joint>

   <gazebo reference="rh_LFJ1">
      <provideFeedback>1</provideFeedback>
      <implicitSpringDamper>1</implicitSpringDamper>
   </gazebo>

   <link name="rh_lftip">
      <inertial>
         <origin xyz="0 0 0" rpy="0 0 0"/>
         <!--Explicitly setting the origin to avoid compilation errors-->
         <mass value="0.001"/>
         <inertia ixx="0.0" ixy="0.0" ixz="0.0" iyy="0.0" iyz="0.0" izz="0.0"/>
      </inertial>
   </link>

   <joint name="rh_LFtip" type="fixed">
      <parent link="rh_lfdistal"/>
      <child link="rh_lftip"/>
      <origin rpy="0 0 0" xyz="0 0 0.026"/>
   </joint>

   <gazebo reference="rh_lfdistal">
      <sensor name="rh_lfdistal_contact" type="contact">
         <always_on>1</always_on>
         <update_rate>1000.0</update_rate>
         <contact>
            <collision>rh_lfdistal_collision</collision>
            <topic>rh_lfdistal_collision</topic>
         </contact>
         <plugin filename="libgazebo_ros_bumper.so" name="rh_lfdistal_gazebo_ros_bumper_controller">
            <alwaysOn>true</alwaysOn>
            <frameName>rh_lfdistal</frameName>
            <updateRate>100.0</updateRate>
            <bumperTopicName>contacts/rh_lf/distal</bumperTopicName>
         </plugin>
      </sensor>
      <mu1 value="500.0"/>
      <mu2 value="500.0"/>
      <kp value="10000000.0"/>
      <kd value="1.0"/>
      <selfCollide>true</selfCollide>
   </gazebo>

   <link name="rh_thbase">
      <inertial>
         <mass value="0.010"/>
         <origin rpy="0 0 0" xyz="0 0 0"/>
         <inertia ixx="0.00000016" ixy="0.0" ixz="0.0" iyy="0.00000016" iyz="0.0" izz="0.00000016"/>
      </inertial>
      <visual>
         <origin rpy="0 0 0" xyz="0 0 0"/>
         <geometry name="rh_thbase_visual">
            <box size="0.001 0.001 0.001"/>
         </geometry>
         <material name="shadow_thbase_material">
            <color rgba="0.5 0.5 0.5 1.0"/>
         </material>
      </visual>
      <collision>
         <origin rpy="0 0 0" xyz="0 0 0"/>
         <geometry name="rh_thbase_collision_geom">
            <sphere radius="0.011"/>
         </geometry>
      </collision>
   </link>

   <joint name="rh_THJ5" type="revolute">
      <parent link="rh_palm"/>
      <child link="rh_thbase"/>
      <origin rpy="-0.7853981633974483 0 -1.5707963267948966" xyz="0.034 -0.00858 0.029"/>
      <axis xyz="0 0 -1"/>
      <limit effort="5.0" lower="-1.0471975511965976" upper="1.0471975511965976" velocity="4.0"/>
      <dynamics damping="0.2"/>
   </joint>

   <gazebo reference="rh_THJ5">
      <provideFeedback>1</provideFeedback>
      <implicitSpringDamper>1</implicitSpringDamper>
   </gazebo>

   <transmission name="rh_thbase_transmission">
      <type>sr_mechanism_model/SimpleTransmission</type>
      <actuator name="rh_THJ5">
         <mechanicalReduction>1</mechanicalReduction>
      </actuator>
      <joint name="rh_THJ5">
         <hardwareInterface>EffortJointInterface</hardwareInterface>
         <hardwareInterface>PositionJointInterface</hardwareInterface>
      </joint>
   </transmission>

   <gazebo reference="rh_thbase">      <!-- base is inside the proximal and not exposed, so bumper is not needed -->
      <selfCollide>false</selfCollide>
   </gazebo>

   <link name="rh_thproximal">
      <inertial>
         <mass value="0.040"/>
         <origin rpy="0 0 0" xyz="0 0 0.019"/>
         <inertia ixx="0.0000136" ixy="0.0" ixz="0.0" iyy="0.0000136" iyz="0.0" izz="0.00000313"/>
      </inertial>
      <visual>
         <origin rpy="0 0 1.5707963267948966" xyz="0 0 0"/>
         <geometry name="rh_thproximal_visual">
            <mesh filename="package://sr_description/meshes/components/th_proximal/th_proximal_E3M5_no_rot_scaled.dae" />
         </geometry>
         <material name="shadow_thproximal_material">
            <color rgba="0.2 0.2 0.2 1.0"/>
         </material>
      </visual>
      <collision>
         <origin rpy="0 0 0" xyz="0 0 0.020"/>
         <geometry name="rh_thproximal_collision_geom">
            <cylinder length="0.018" radius="0.012"/>
         </geometry>
      </collision>
   </link>

   <joint name="rh_THJ4" type="revolute">
      <parent link="rh_thbase"/>
      <child link="rh_thproximal"/>
      <origin rpy="0 0 0" xyz="0 0 0"/>
      <axis xyz="0 1 0"/>
      <limit effort="3" lower="0.0" upper="1.2217304763960306" velocity="4.0"/>
      <dynamics damping="0.2"/>
   </joint>

   <gazebo reference="rh_THJ4">
      <provideFeedback>1</provideFeedback>
      <implicitSpringDamper>1</implicitSpringDamper>
   </gazebo>

   <transmission name="rh_thproximal_transmission">
      <type>sr_mechanism_model/SimpleTransmission</type>
      <actuator name="rh_THJ4">
         <mechanicalReduction>1</mechanicalReduction>
      </actuator>
      <joint name="rh_THJ4">
         <hardwareInterface>EffortJointInterface</hardwareInterface>
         <hardwareInterface>PositionJointInterface</hardwareInterface>
      </joint>
   </transmission>

   <gazebo reference="rh_thproximal">
      <selfCollide>false</selfCollide>
   </gazebo>

   <link name="rh_thhub">
      <inertial>
         <mass value="0.005"/>
         <origin rpy="0 0 0" xyz="0 0 0"/>
         <inertia ixx="0.000001" ixy="0.0" ixz="0.0" iyy="0.000001" iyz="0.0" izz="0.0000003"/>
      </inertial>
      <visual>
         <origin rpy="0 0 0" xyz="0 0 0"/>
         <geometry name="rh_thhub_visual">
            <box size="0.001 0.001 0.001"/>
         </geometry>
         <material name="shadow_thhub_material">
            <color rgba="0.7 0.7 0.7 1.0"/>
         </material>
      </visual>
      <collision>
         <origin rpy="0 0 0" xyz="0 0 0"/>
         <geometry name="rh_thhub_collision_geom">
            <sphere radius="0.010"/>
         </geometry>
      </collision>
   </link>

   <joint name="rh_THJ3" type="revolute">
      <parent link="rh_thproximal"/>
      <child link="rh_thhub"/>
      <origin rpy="0 0 0" xyz="0 0 0.038"/>
      <axis xyz="0 1 0"/>
      <limit effort="2.0" lower="-0.20943951023931953" upper="0.20943951023931953" velocity="4.0"/>
      <dynamics damping="0.2"/>
   </joint>

   <gazebo reference="rh_THJ3">
      <provideFeedback>1</provideFeedback>
      <implicitSpringDamper>1</implicitSpringDamper>
   </gazebo>

   <transmission name="rh_thhub_transmission">
      <type>sr_mechanism_model/SimpleTransmission</type>
      <actuator name="rh_THJ3">
         <mechanicalReduction>1</mechanicalReduction>
      </actuator>
      <joint name="rh_THJ3">
         <hardwareInterface>EffortJointInterface</hardwareInterface>
         <hardwareInterface>PositionJointInterface</hardwareInterface>
      </joint>
   </transmission>

   <gazebo reference="rh_thhub">      <!-- hub is inside the proximal and not exposed, so bumper is not needed -->
      <selfCollide>false</selfCollide>
   </gazebo>

   <link name="rh_thmiddle">
      <inertial>
         <mass value="0.020"/>
         <origin rpy="0 0 0" xyz="0 0 0.016"/>
         <inertia ixx="0.0000051" ixy="0.0" ixz="0.0" iyy="0.0000051" iyz="0.0" izz="0.00000121"/>
      </inertial>
      <visual>
         <origin rpy="0 0 1.5707963267948966" xyz="0 0 0"/>
         <geometry name="rh_thmiddle_visual">
            <mesh filename="package://sr_description/meshes/components/th_middle/th_middle_E3M5_no_rot_scaled.dae" />
         </geometry>
         <material name="shadow_thmiddle_material">
            <color rgba="0.2 0.2 0.2 1.0"/>
         </material>
      </visual>
      <collision>
         <origin rpy="0 0 0" xyz="0 0 0.012"/>
         <geometry name="rh_thmiddle_collision_geom">
            <cylinder length="0.018" radius="0.011"/>
         </geometry>
      </collision>
      <collision>
         <origin rpy="0 0 0" xyz="0 0 0.019"/>
         <geometry>
            <sphere radius="0.011"/>
         </geometry>
      </collision>
      <collision>
         <origin rpy="0 1.5708 0" xyz="0 0 0.032"/>
         <geometry>
            <cylinder length="0.014" radius="0.010"/>
         </geometry>
      </collision>
   </link>

   <joint name="rh_THJ2" type="revolute">
      <parent link="rh_thhub"/>
      <child link="rh_thmiddle"/>
      <origin rpy="0 0 0" xyz="0 0 0"/>
      <axis xyz="1 0 0"/>
      <limit effort="2.0" lower="-0.6981317007977318" upper="0.6981317007977318" velocity="2.0"/>
      <dynamics damping="0.1"/>
   </joint>

   <gazebo reference="rh_THJ2">
      <provideFeedback>1</provideFeedback>
      <implicitSpringDamper>1</implicitSpringDamper>
   </gazebo>

   <transmission name="rh_thmiddle_transmission">
      <type>sr_mechanism_model/SimpleTransmission</type>
      <actuator name="rh_THJ2">
         <mechanicalReduction>1</mechanicalReduction>
      </actuator>
      <joint name="rh_THJ2">
         <hardwareInterface>EffortJointInterface</hardwareInterface>
         <hardwareInterface>PositionJointInterface</hardwareInterface>
      </joint>
   </transmission>

   <gazebo reference="rh_thmiddle"></gazebo>   <!-- common -->

   <link name="rh_thdistal">
      <inertial>
         <mass value="0.016"/>
         <origin rpy="0 0 0" xyz="0 0 0.01375"/>
         <inertia ixx="0.0000021" ixy="0.0" ixz="0.0" iyy="0.0000022" iyz="0.0" izz="0.000001"/>
      </inertial>
      <visual>
         <origin rpy="0 0 0" xyz="0 0 0"/>
         <geometry name="rh_thdistal_visual">
            <mesh filename="package://sr_description/meshes/components/th_distal/pst/th_distal_pst_scaled.dae" />
         </geometry>
         <material name="shadow_thmiddle_material">
            <color rgba="0.2 0.2 0.2 1.0"/>
         </material>
      </visual>
      <collision>
         <origin rpy="0 0 0" xyz="0 0 0"/>
         <geometry name="rh_thmiddle_collision_geom">
            <mesh filename="package://sr_description/meshes/components/th_distal/pst/th_distal_pst_scaled.dae" />
         </geometry>
      </collision>
   </link>

   <joint name="rh_THJ1" type="revolute">
      <parent link="rh_thmiddle"/>
      <child link="rh_thdistal"/>
      <origin rpy="0 0 0" xyz="0 0 0.032"/>
      <axis xyz="1 0 0"/>
      <limit effort="1.0" lower="-0.2617993877991494" upper="1.5707963267948966" velocity="4.0"/>
      <dynamics damping="0.2"/>
   </joint>

   <gazebo reference="rh_THJ1">
      <provideFeedback>1</provideFeedback>
      <implicitSpringDamper>1</implicitSpringDamper>
   </gazebo>

   <link name="rh_thtip">
      <inertial>
         <origin xyz="0 0 0" rpy="0 0 0"/>
         <!--Explicitly setting the origin to avoid compilation errors-->
         <mass value="0.001"/>
         <inertia ixx="0.0" ixy="0.0" ixz="0.0" iyy="0.0" iyz="0.0" izz="0.0"/>
      </inertial>
   </link>

   <joint name="rh_thtip" type="fixed">
      <parent link="rh_thdistal"/>
      <child link="rh_thtip"/>
      <origin rpy="0 0 0" xyz="0 0 0.0275"/>
   </joint>

   <gazebo reference="rh_thdistal">
      <sensor name="rh_thdistal_contact" type="contact">
         <always_on>1</always_on>
         <update_rate>1000.0</update_rate>
         <contact>
            <collision>rh_thdistal_collision</collision>
            <topic>rh_thdistal_collision</topic>
         </contact>
         <plugin filename="libgazebo_ros_bumper.so" name="rh_thdistal_gazebo_ros_bumper_controller">
            <alwaysOn>true</alwaysOn>
            <frameName>rh_thdistal</frameName>
            <updateRate>100.0</updateRate>
            <bumperTopicName>contacts/rh_th/distal</bumperTopicName>
         </plugin>
      </sensor>
      <mu1 value="500.0"/>
      <mu2 value="500.0"/>
      <kp value="10000000.0"/>
      <kd value="1.0"/>
      <selfCollide>true</selfCollide>
   </gazebo>

   <transmission name="rh_thdistal_transmission">
      <type>sr_mechanism_model/SimpleTransmission</type>
      <actuator name="rh_THJ1">
         <mechanicalReduction>1</mechanicalReduction>
      </actuator>
      <joint name="rh_THJ1">
         <hardwareInterface>EffortJointInterface</hardwareInterface>
         <hardwareInterface>PositionJointInterface</hardwareInterface>
      </joint>
   </transmission>


</robot>
